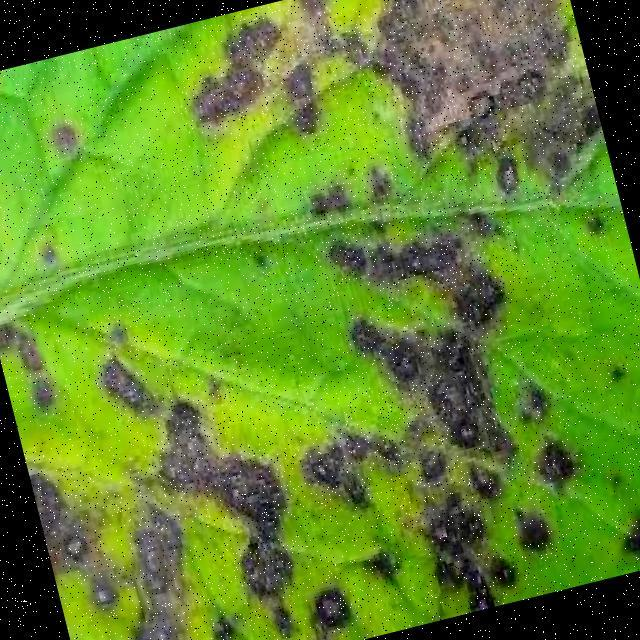Septoria_Blight: (230, 161, 593, 636)
